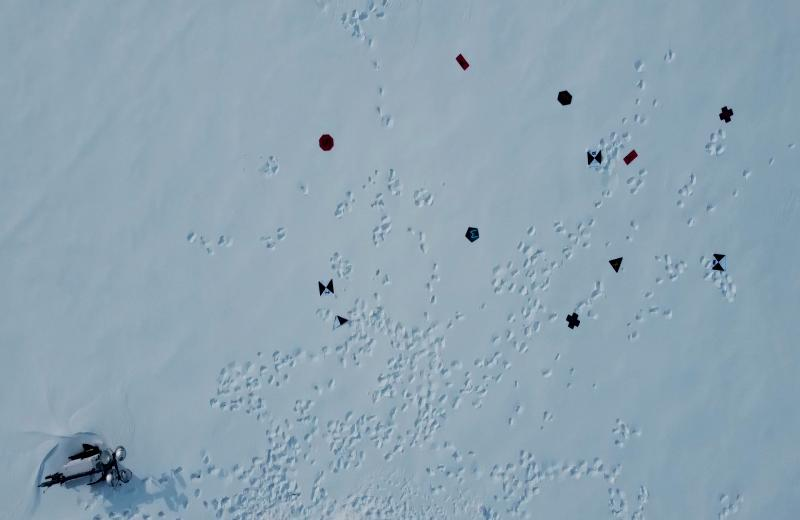Cross: (564, 312, 582, 331), (718, 105, 734, 124)
Hexagon: (556, 89, 574, 108)
Octagon: (318, 133, 335, 153)
Pentagon: (465, 225, 480, 244)
Rectangle: (454, 52, 470, 74), (622, 148, 639, 167)
Triangle: (608, 258, 624, 274)
